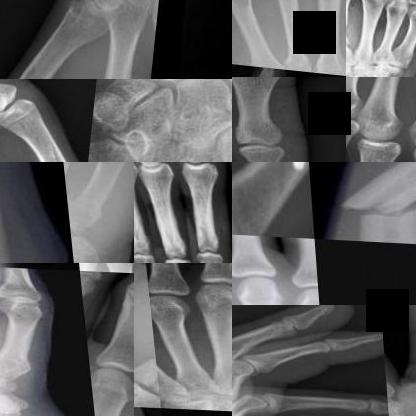fracture: (324, 175, 415, 235), (63, 184, 103, 224), (134, 341, 154, 393), (346, 5, 363, 46), (307, 49, 337, 66), (246, 154, 296, 161)
